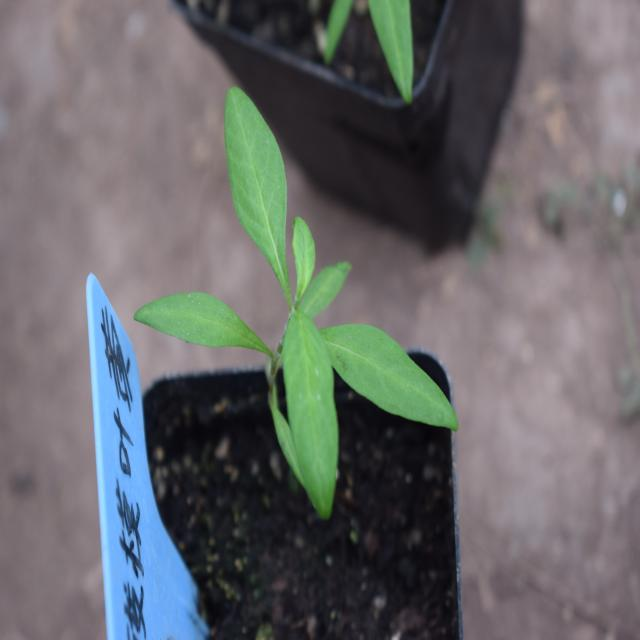white_smart_weed: (136, 68, 449, 526)
